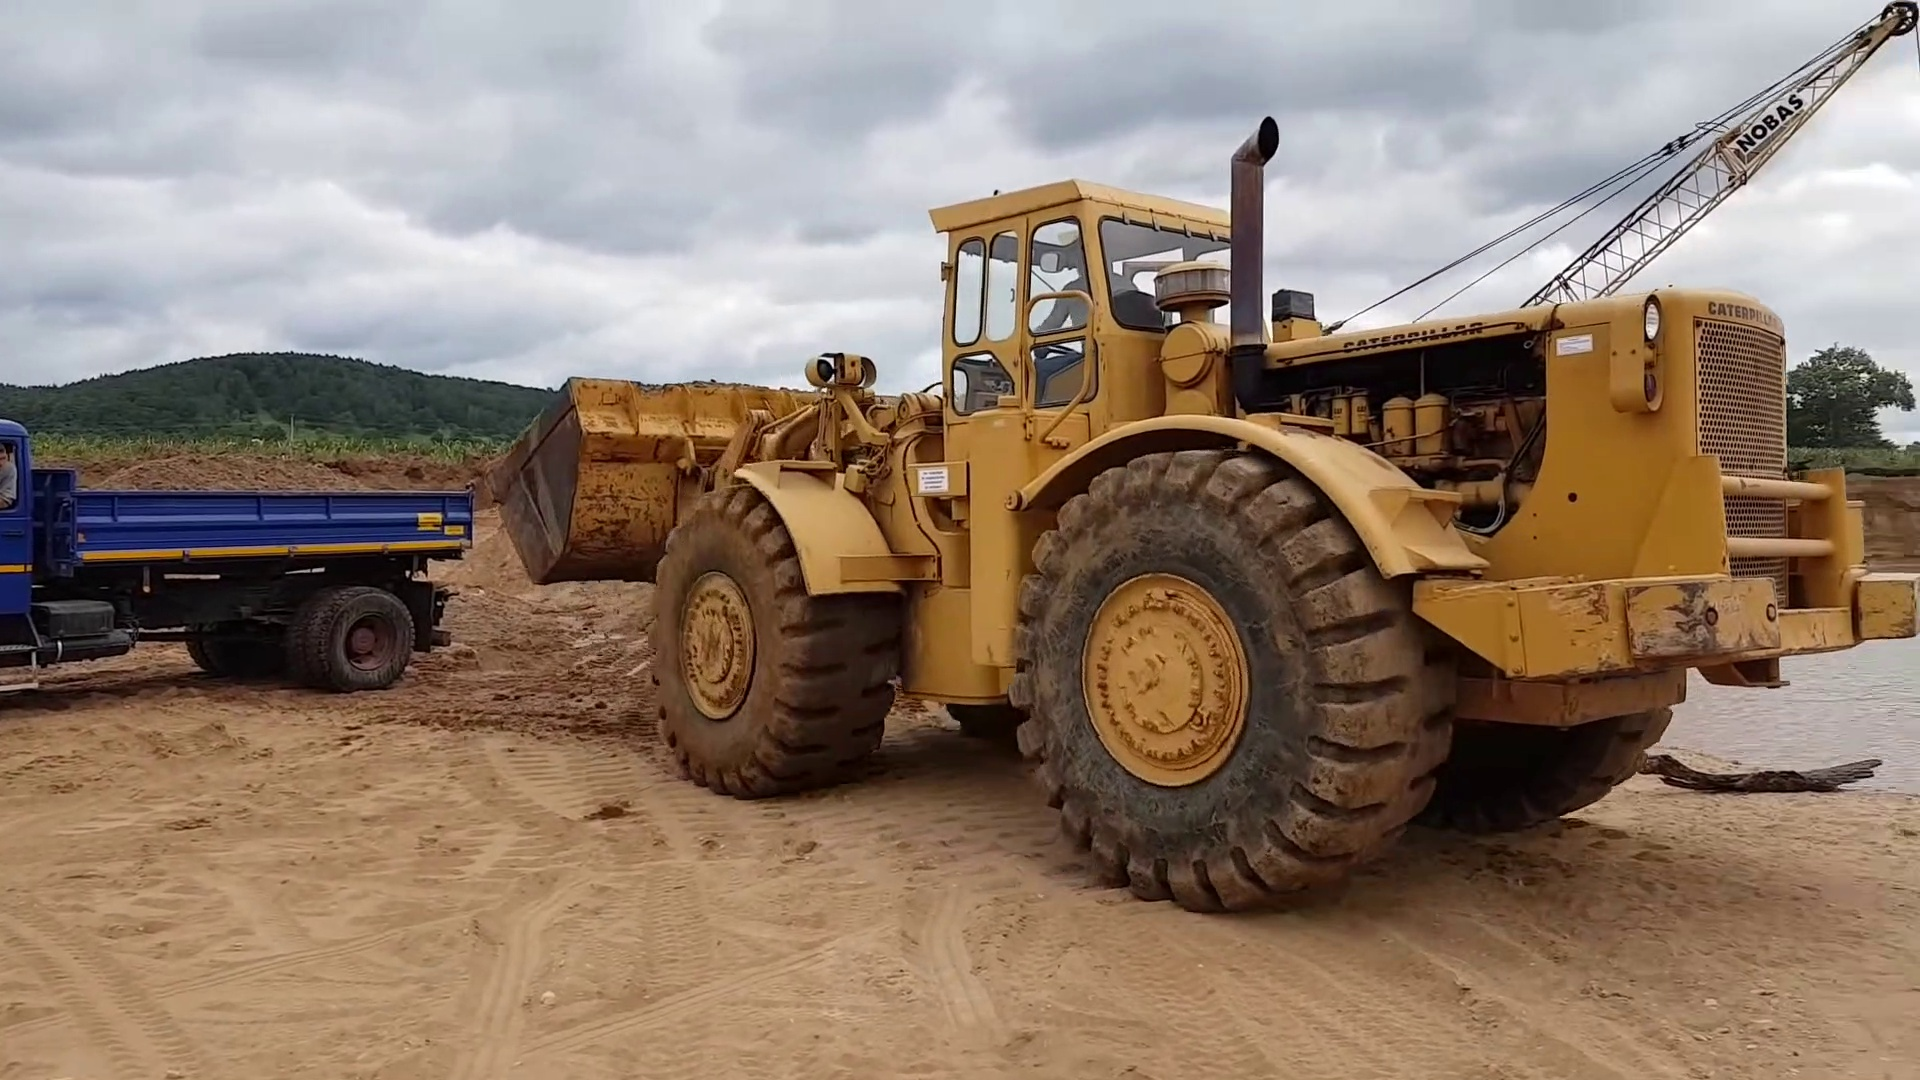truck: (3, 418, 480, 691)
wheel loader: (485, 174, 1894, 909)
